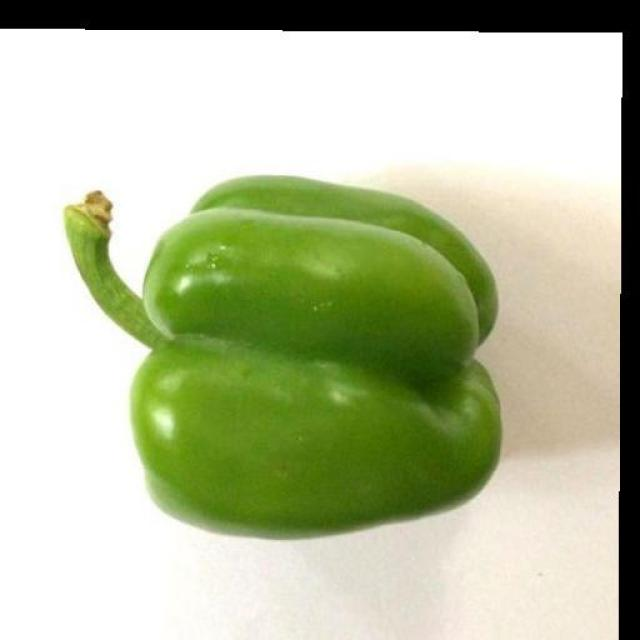Fresh_Capsicum: (88, 184, 512, 526)
